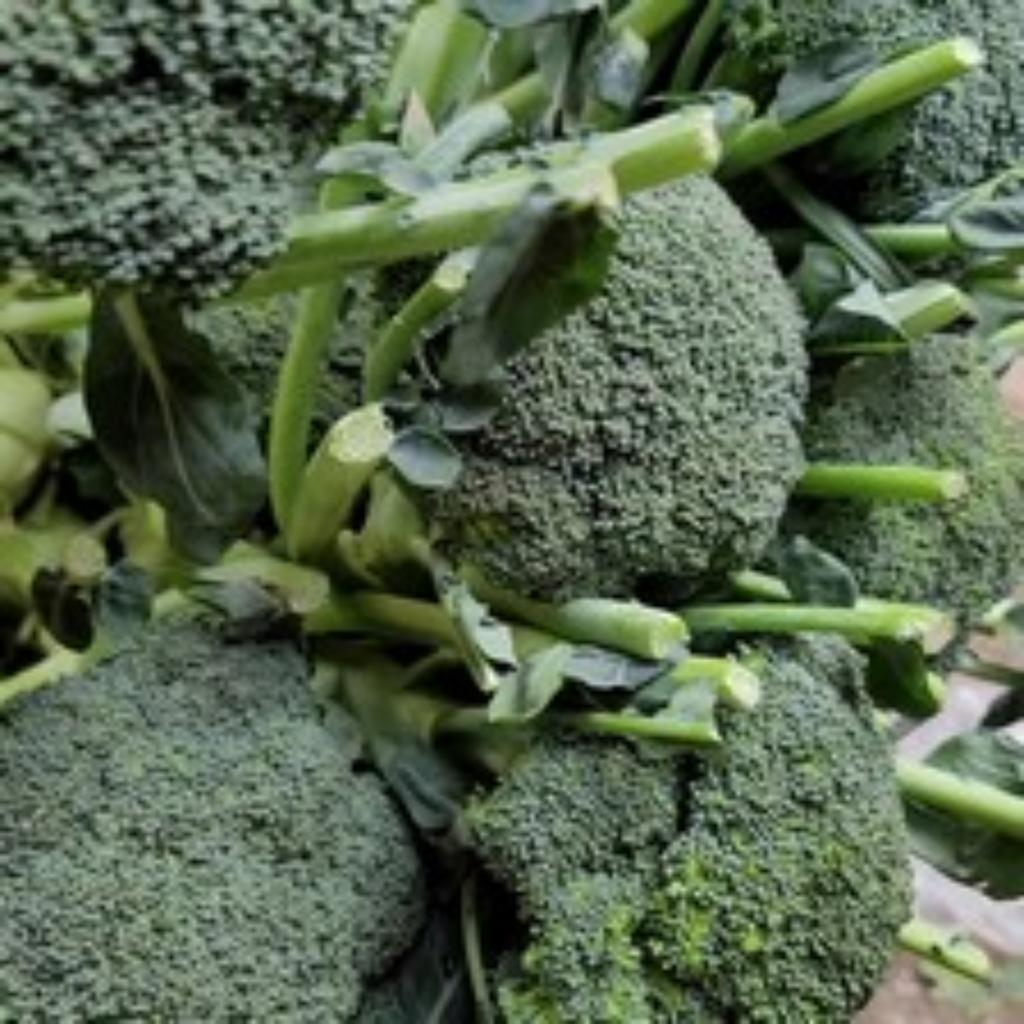Broccoli: (0, 0, 1024, 1023), (0, 616, 906, 1024), (0, 628, 424, 1024), (472, 642, 910, 1024), (434, 176, 804, 599), (460, 178, 804, 597), (0, 0, 403, 289), (790, 334, 1024, 581), (597, 328, 808, 559)
